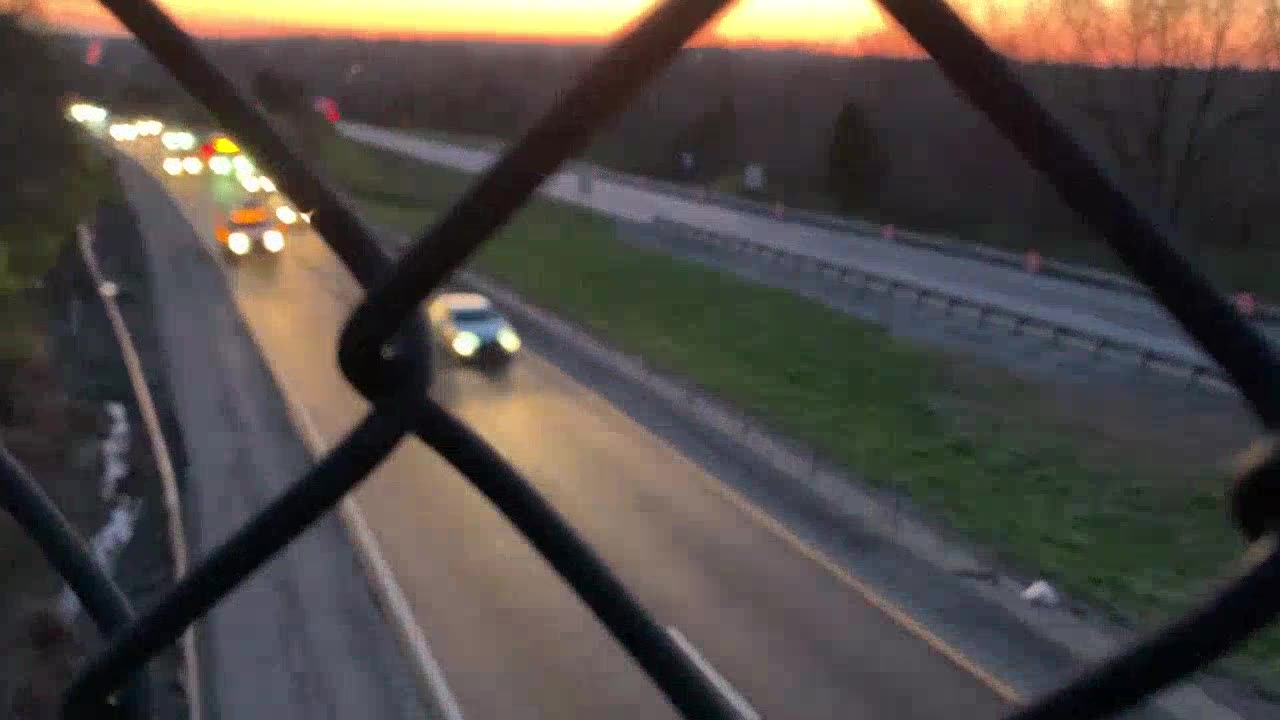smallCar: (422, 288, 527, 367)
